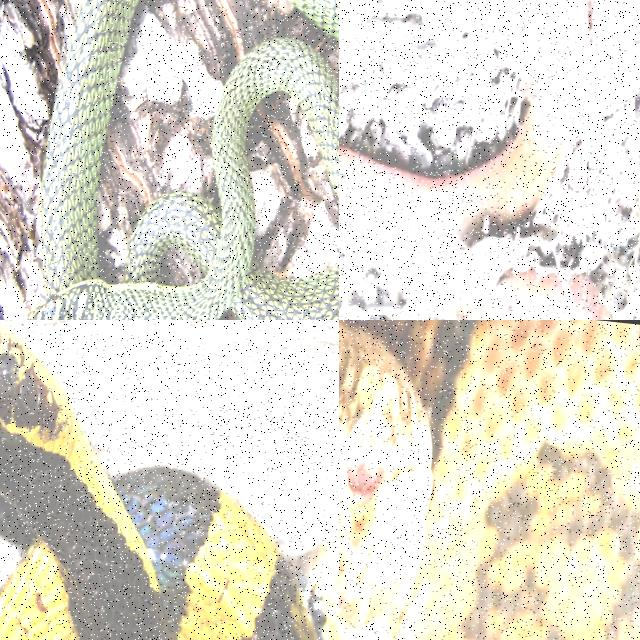Bungarus fasciatus: (0, 324, 338, 639)
Calliophis maculiceps: (339, 0, 588, 253)
Chrysopelea ornata: (28, 0, 338, 319)
Malayopython reticulatus: (339, 320, 639, 639)
